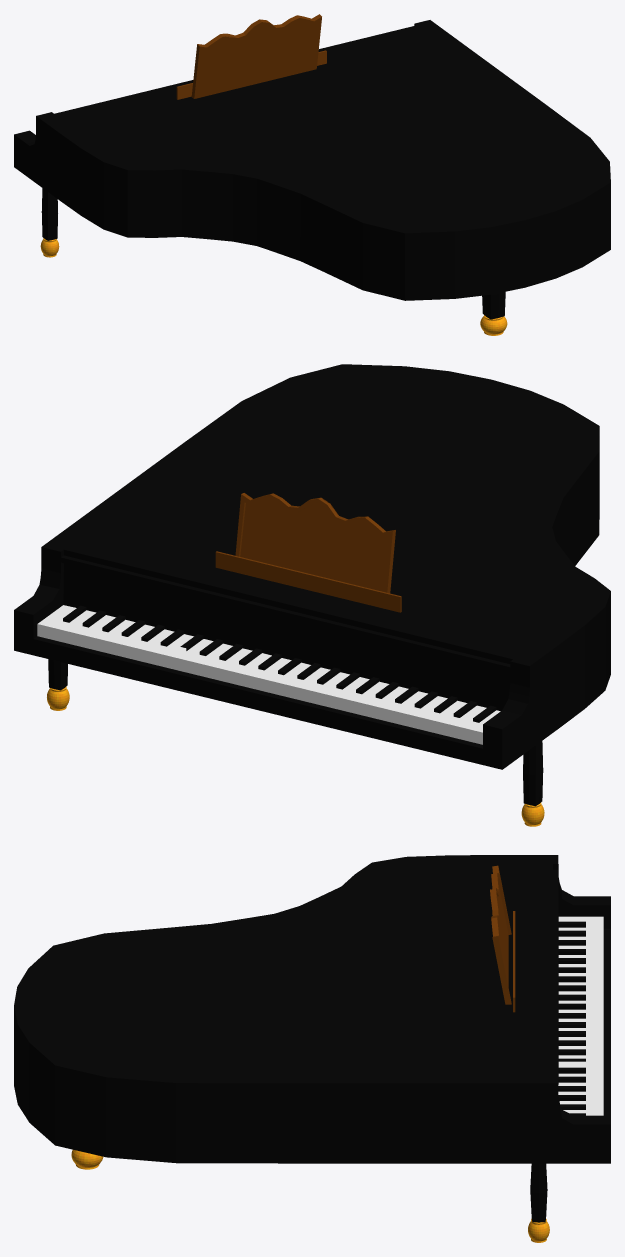
File: grand_piano.obj
3 views of the same model, one above another, from view 1: azimuth 30°, elevation 25°; view 2: azimuth 150°, elevation 25°; view 3: azimuth 270°, elevation 25° (orthographic). The views are drawn at different scales.
Parts seen in each view (by area): view 1: Sphere; view 2: Sphere; view 3: Sphere.
Part boxes in pixels (x1=…): Sphere: x1=14, y1=14, x2=610, y2=335; Sphere: x1=14, y1=364, x2=610, y2=826; Sphere: x1=14, y1=855, x2=610, y2=1242.
Size of the model in its own units: 5.35 by 2.6 by 5.83.
